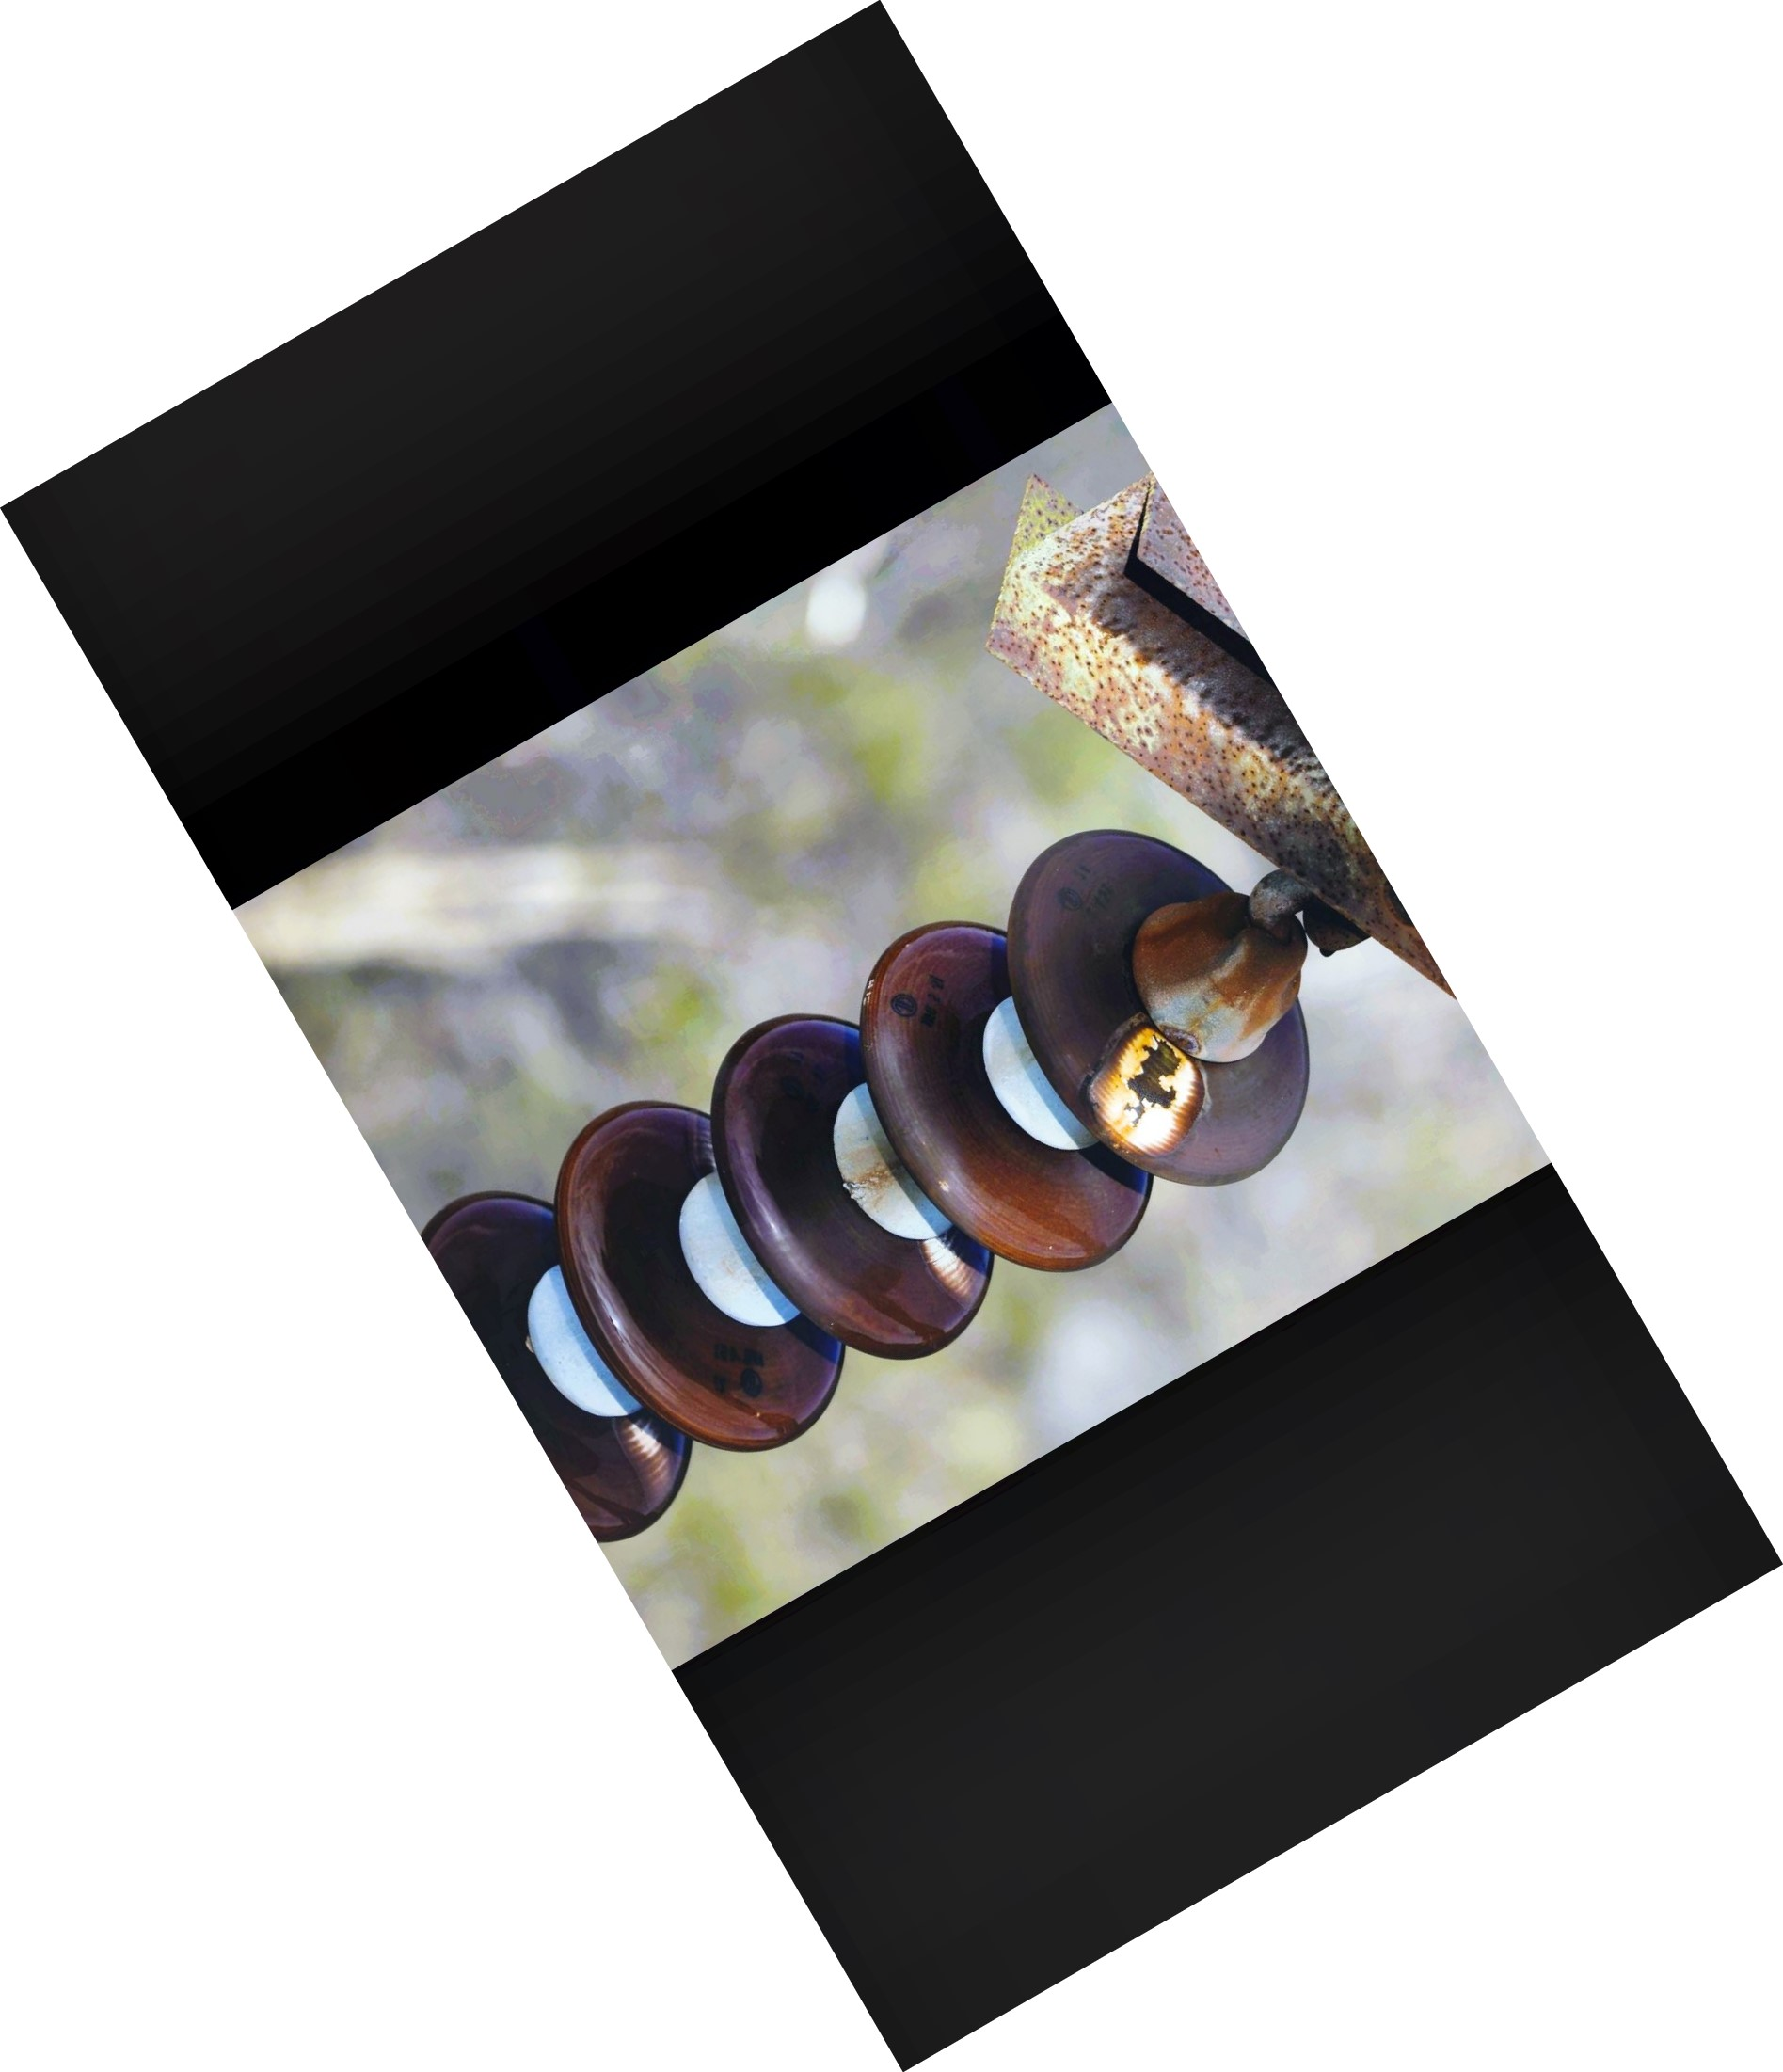Insulator flashover: (987, 807, 1325, 1195)
